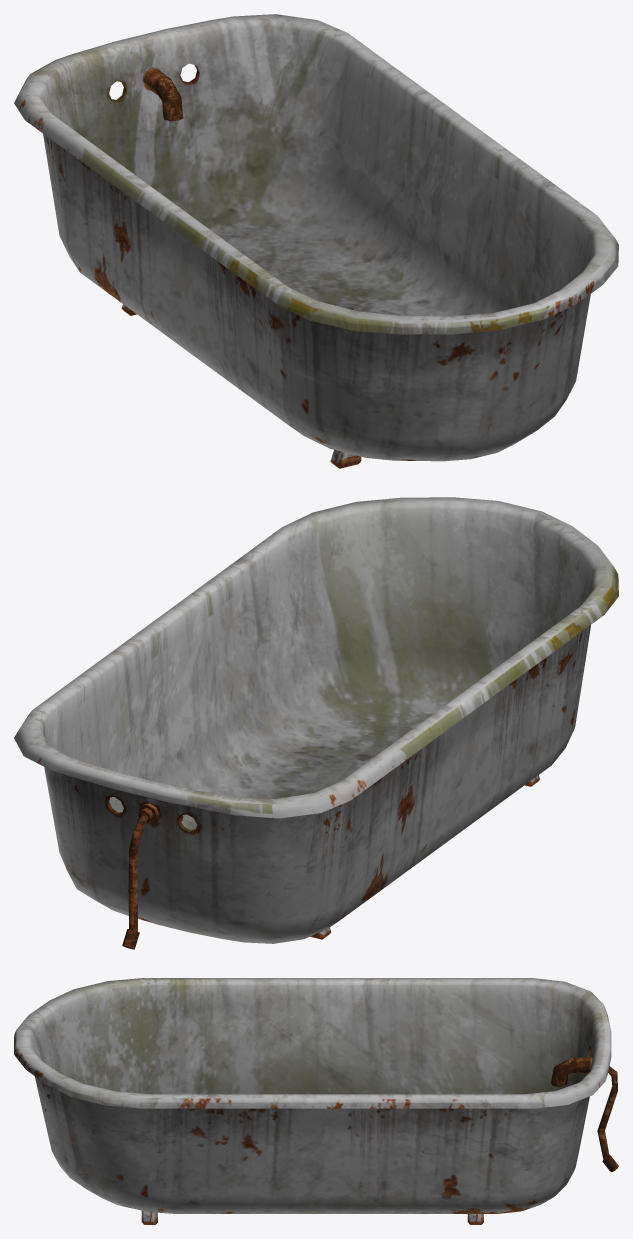
Rendered from bathtub.glb.
3 views of the same model, one above another, from view 1: azimuth 30°, elevation 25°; view 2: azimuth 150°, elevation 25°; view 3: azimuth 270°, elevation 25° (orthographic). The views are drawn at different scales.
Parts seen in each view (by area): view 1: Cube; view 2: Cube; view 3: Cube.
Boxes of the visible parts, x1,y1,x2,y2 form: Cube: (14,14,618,468); Cube: (14,497,618,949); Cube: (14,978,618,1224).
Bounding box in the file's own units: 3.61 × 2.02 × 7.42.
1 material, 1 textured.
